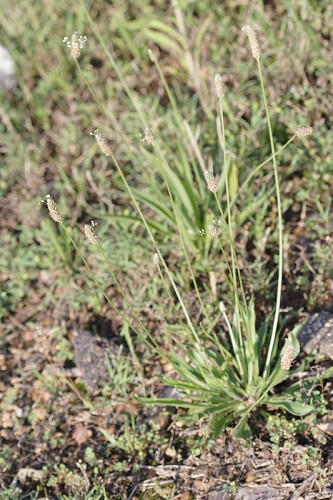buckhorn plantain: (34, 31, 308, 456)
